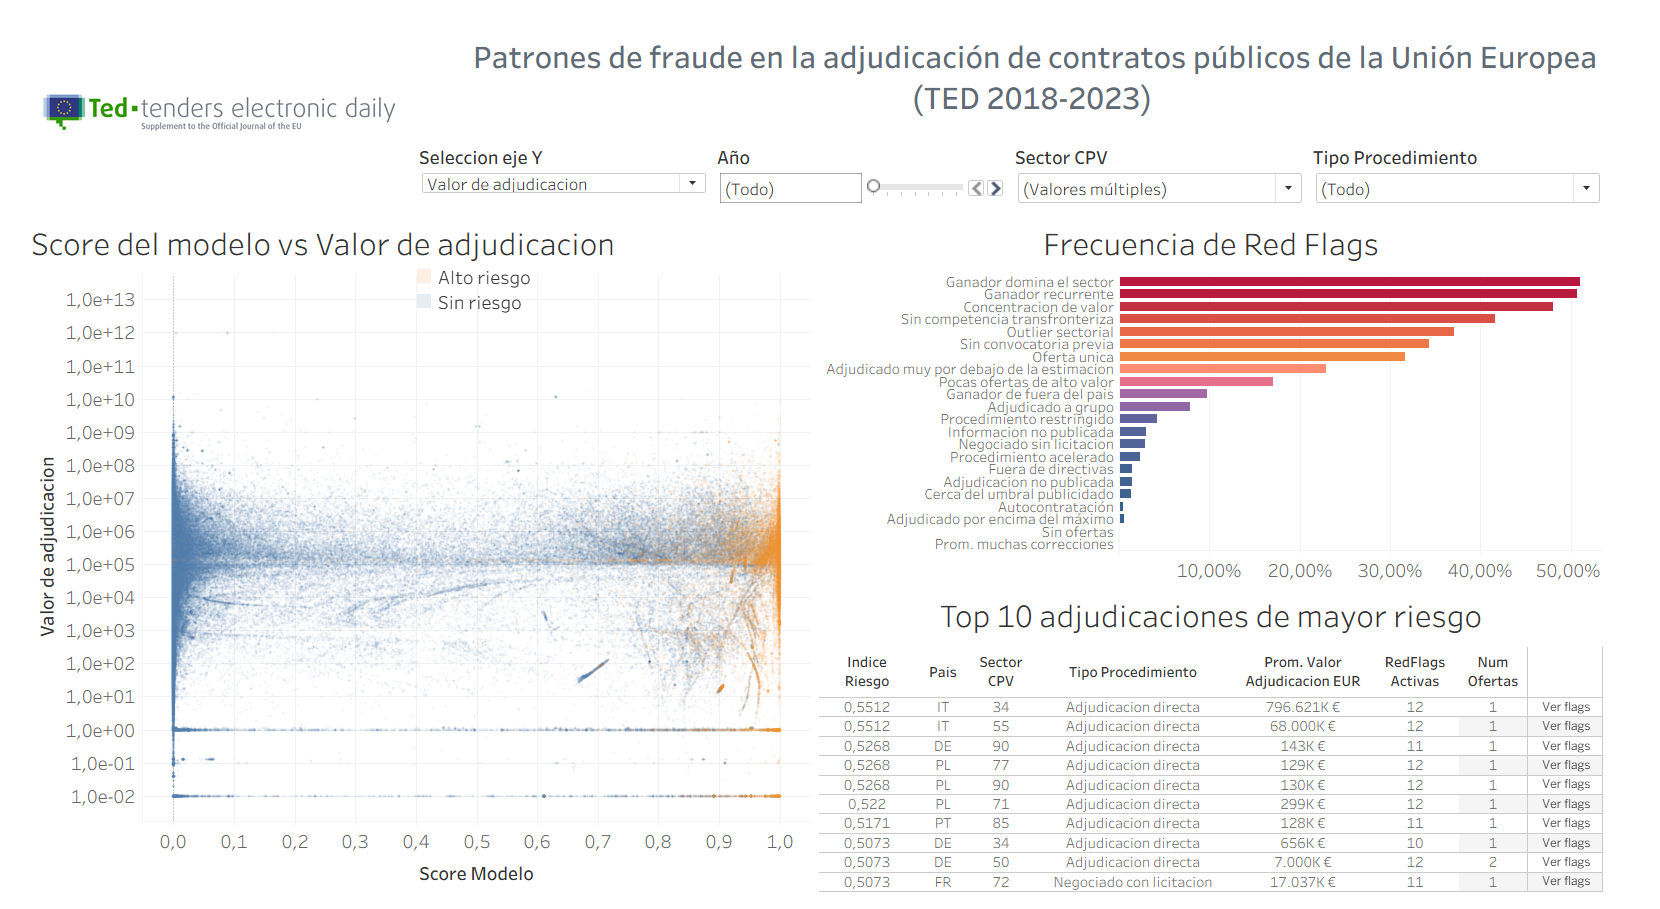

This screenshot's page, from the dashboard's own definition file:
{"tool":"tableau","page":{"name":"Dashboard 2","canvas":[1600,900],"ordinal":1},"visuals":[{"type":"image","param":"Image/TED-Logo-white-background.png","box":[8,8,392,202]},{"type":"blank","box":[400,8,42,128]},{"type":"text","box":[442,8,1150,128]},{"type":"parameter","param":"[Parameters].[Parámetro 0345279670398976]","box":[400,136,298,74]},{"type":"filter","title":"Scatter","param":"[federated.04c1jwz0su23bb1ek6ttd1amq7jg].[none:Ano:ok]","box":[698,136,298,74]},{"type":"filter","title":"Scatter","param":"[federated.04c1jwz0su23bb1ek6ttd1amq7jg].[none:Sector_CPV:ok]","box":[996,136,298,74]},{"type":"filter","title":"Scatter","param":"[federated.04c1jwz0su23bb1ek6ttd1amq7jg].[none:Tipo_Procedimiento_Desc:nk]","box":[1294,136,298,74]},{"type":"worksheet","title":"Scatter","mark":"Automatic","rows":["Calculation_0345279671070721"],"cols":["Score_Modelo"],"box":[8,210,792,682]},{"type":"worksheet","title":"Perfil de red flags (filtrado por selección)","mark":"Bar","box":[800,210,792,372]},{"type":"legend","title":"Scatter","param":"[federated.04c1jwz0su23bb1ek6ttd1amq7jg].[none:Etiqueta_Riesgo:ok]","box":[397,260,140,57]},{"type":"worksheet","title":"Top 10 adjudicaciones de mayor riesgo","mark":"Text","rows":["Indice_Riesgo","Pais","Sector_CPV","Tipo_Procedimiento_Desc","Valor_Adjudicacion_EUR","Num_RedFlags_Activas","Num_Ofertas"],"box":[800,582,792,310]}]}

Visuals, with their boxes in screenshot pixels (x1, y1, x2, y2), scaled from the page's 1600x900 canvas onto the 1660x909 screenshot:
image: bbox(8, 8, 415, 212)
blank: bbox(415, 8, 459, 137)
text: bbox(459, 8, 1652, 137)
parameter: bbox(415, 137, 724, 212)
"Scatter" filter: bbox(724, 137, 1033, 212)
"Scatter" filter: bbox(1033, 137, 1343, 212)
"Scatter" filter: bbox(1343, 137, 1652, 212)
"Scatter" worksheet: bbox(8, 212, 830, 901)
"Perfil de red flags (filtrado por selección)" worksheet (Bar marks): bbox(830, 212, 1652, 588)
"Scatter" legend: bbox(412, 263, 557, 320)
"Top 10 adjudicaciones de mayor riesgo" worksheet (Text marks): bbox(830, 588, 1652, 901)
